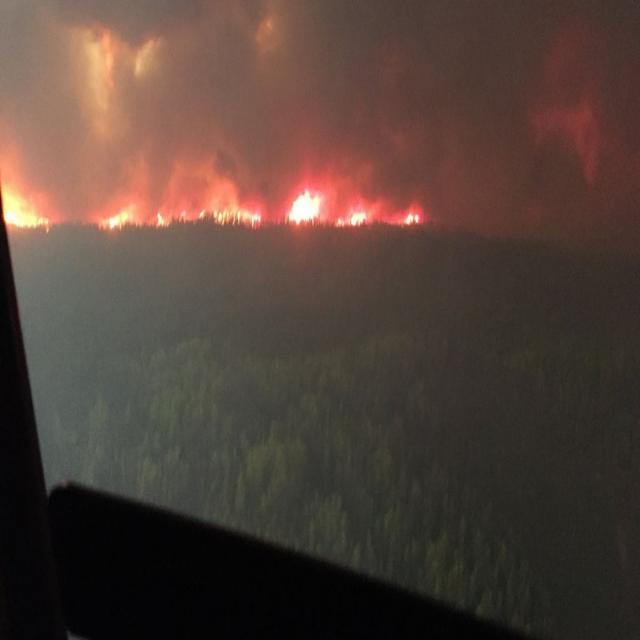Fire: (154, 197, 264, 228), (3, 199, 45, 231), (286, 190, 323, 222), (104, 204, 128, 230), (340, 206, 368, 227), (404, 210, 421, 226)
